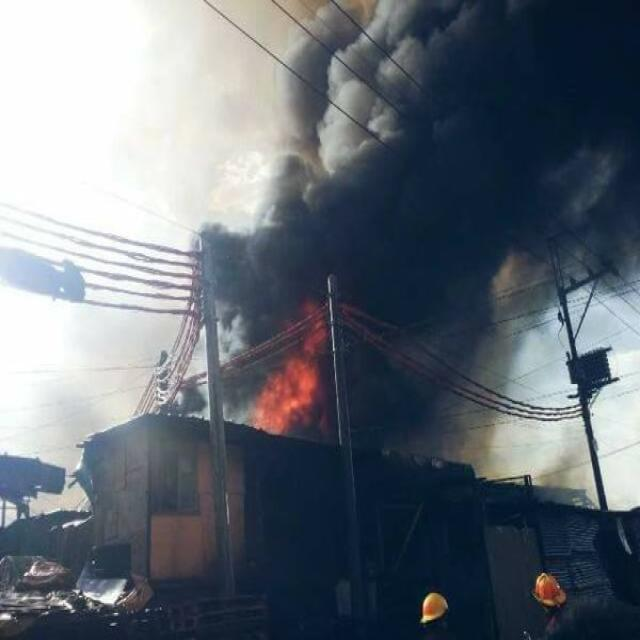Fire: (258, 312, 352, 426)
Smoke: (306, 0, 640, 262)
